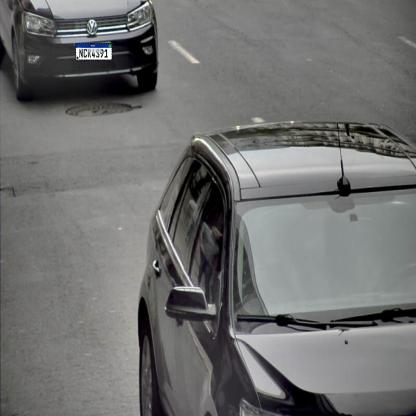PlacaM: (76, 43, 112, 60)
